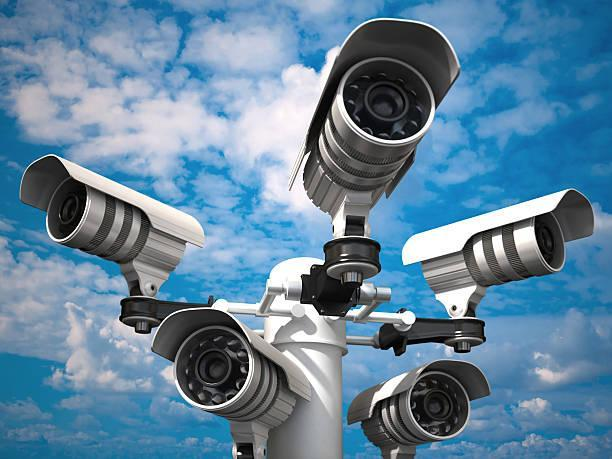camera: (390, 133, 612, 353), (285, 0, 449, 228), (19, 119, 201, 315), (118, 298, 325, 459), (333, 356, 530, 459)
